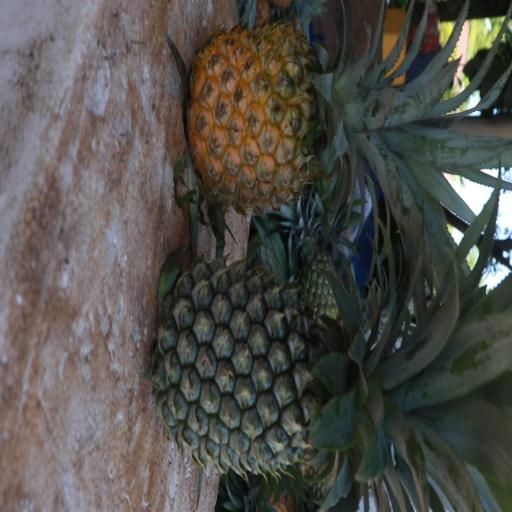Pineapple - v8 v1: (189, 26, 503, 202)
